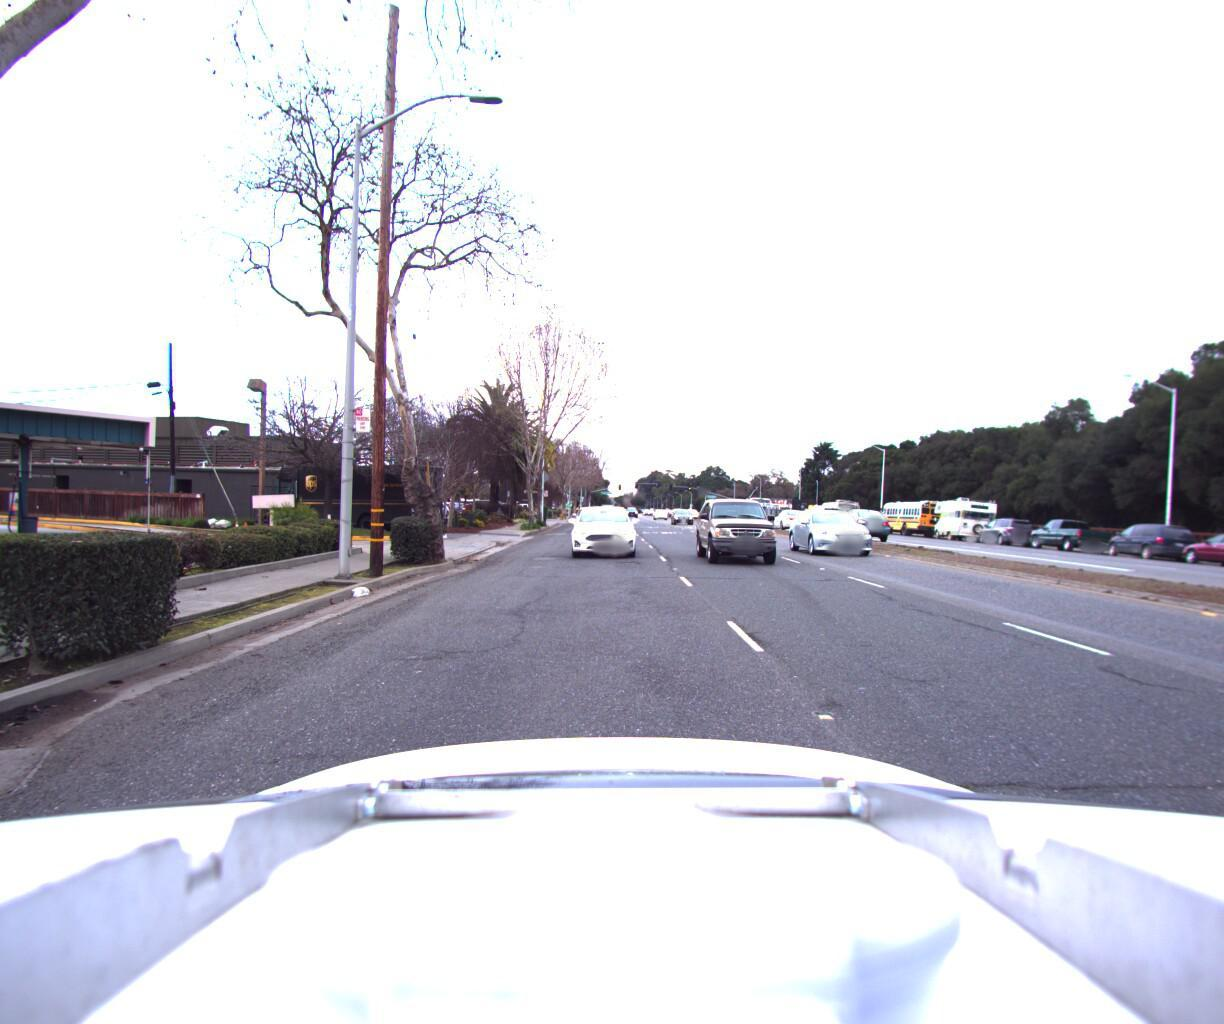bus: (872, 494, 956, 537)
car: (698, 491, 797, 569), (794, 505, 898, 559), (1094, 517, 1205, 561), (568, 496, 640, 556), (1021, 514, 1117, 551), (1169, 526, 1224, 571), (971, 513, 1041, 545), (832, 506, 897, 540), (798, 498, 852, 531), (769, 504, 814, 529), (670, 505, 697, 522)
other_vehicle: (927, 493, 1001, 539)
truck: (253, 458, 447, 532), (736, 491, 795, 525), (775, 491, 831, 524), (851, 505, 899, 531)
